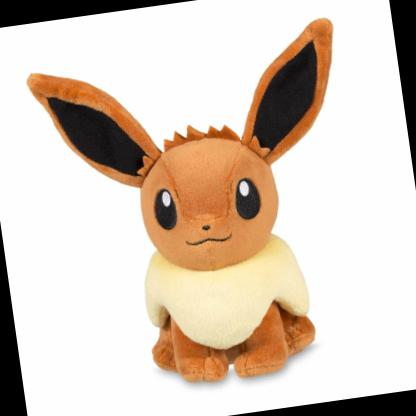Eevee: (33, 11, 416, 416)
